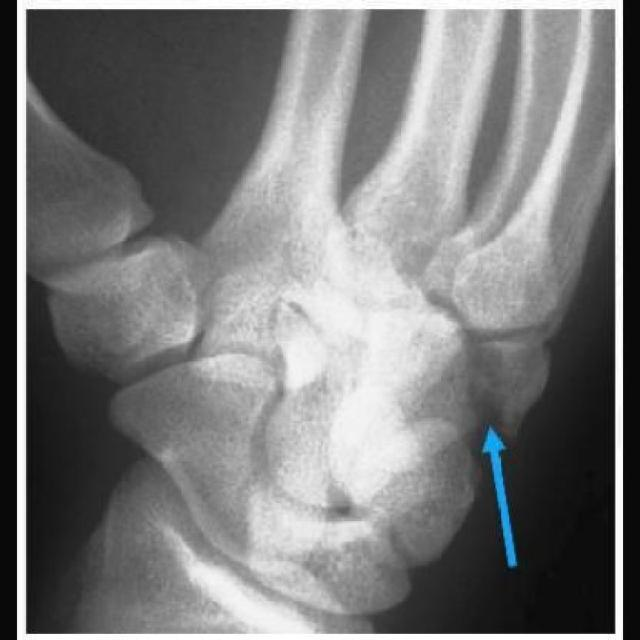Fracture: (454, 332, 519, 434)
